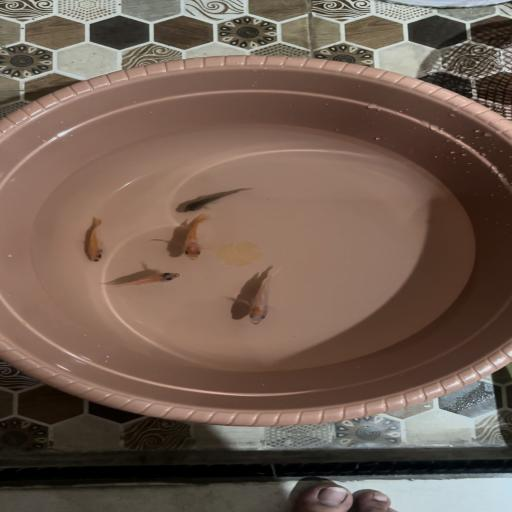nila: (235, 265, 288, 327), (177, 186, 255, 214), (176, 213, 217, 262), (96, 268, 186, 290), (78, 216, 113, 265)
